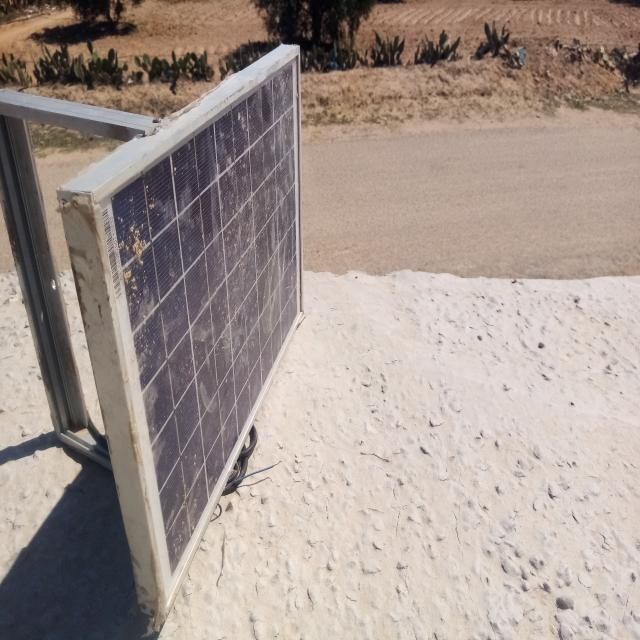faulty: (94, 45, 308, 607)
